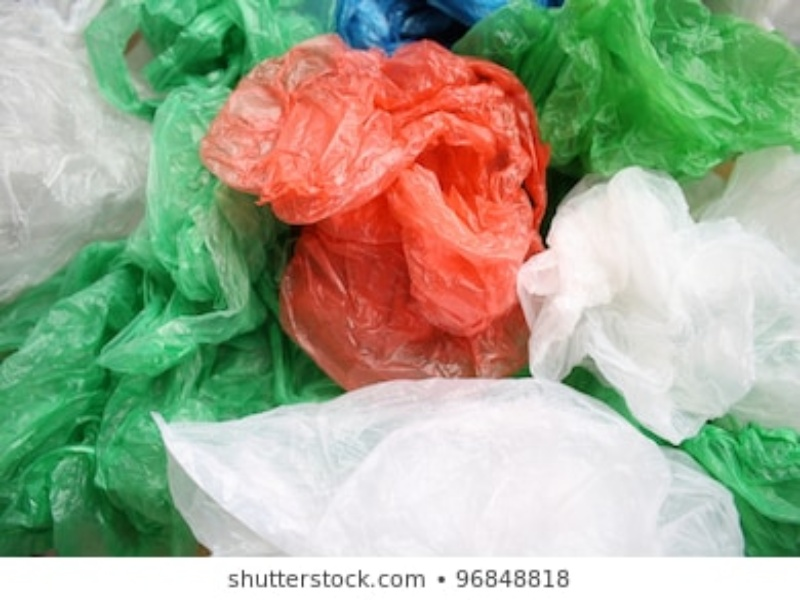plastic-bag: (1, 1, 327, 553), (201, 32, 546, 379), (146, 377, 745, 555), (516, 165, 787, 443), (455, 3, 796, 174), (1, 1, 147, 292), (336, 2, 575, 40)
